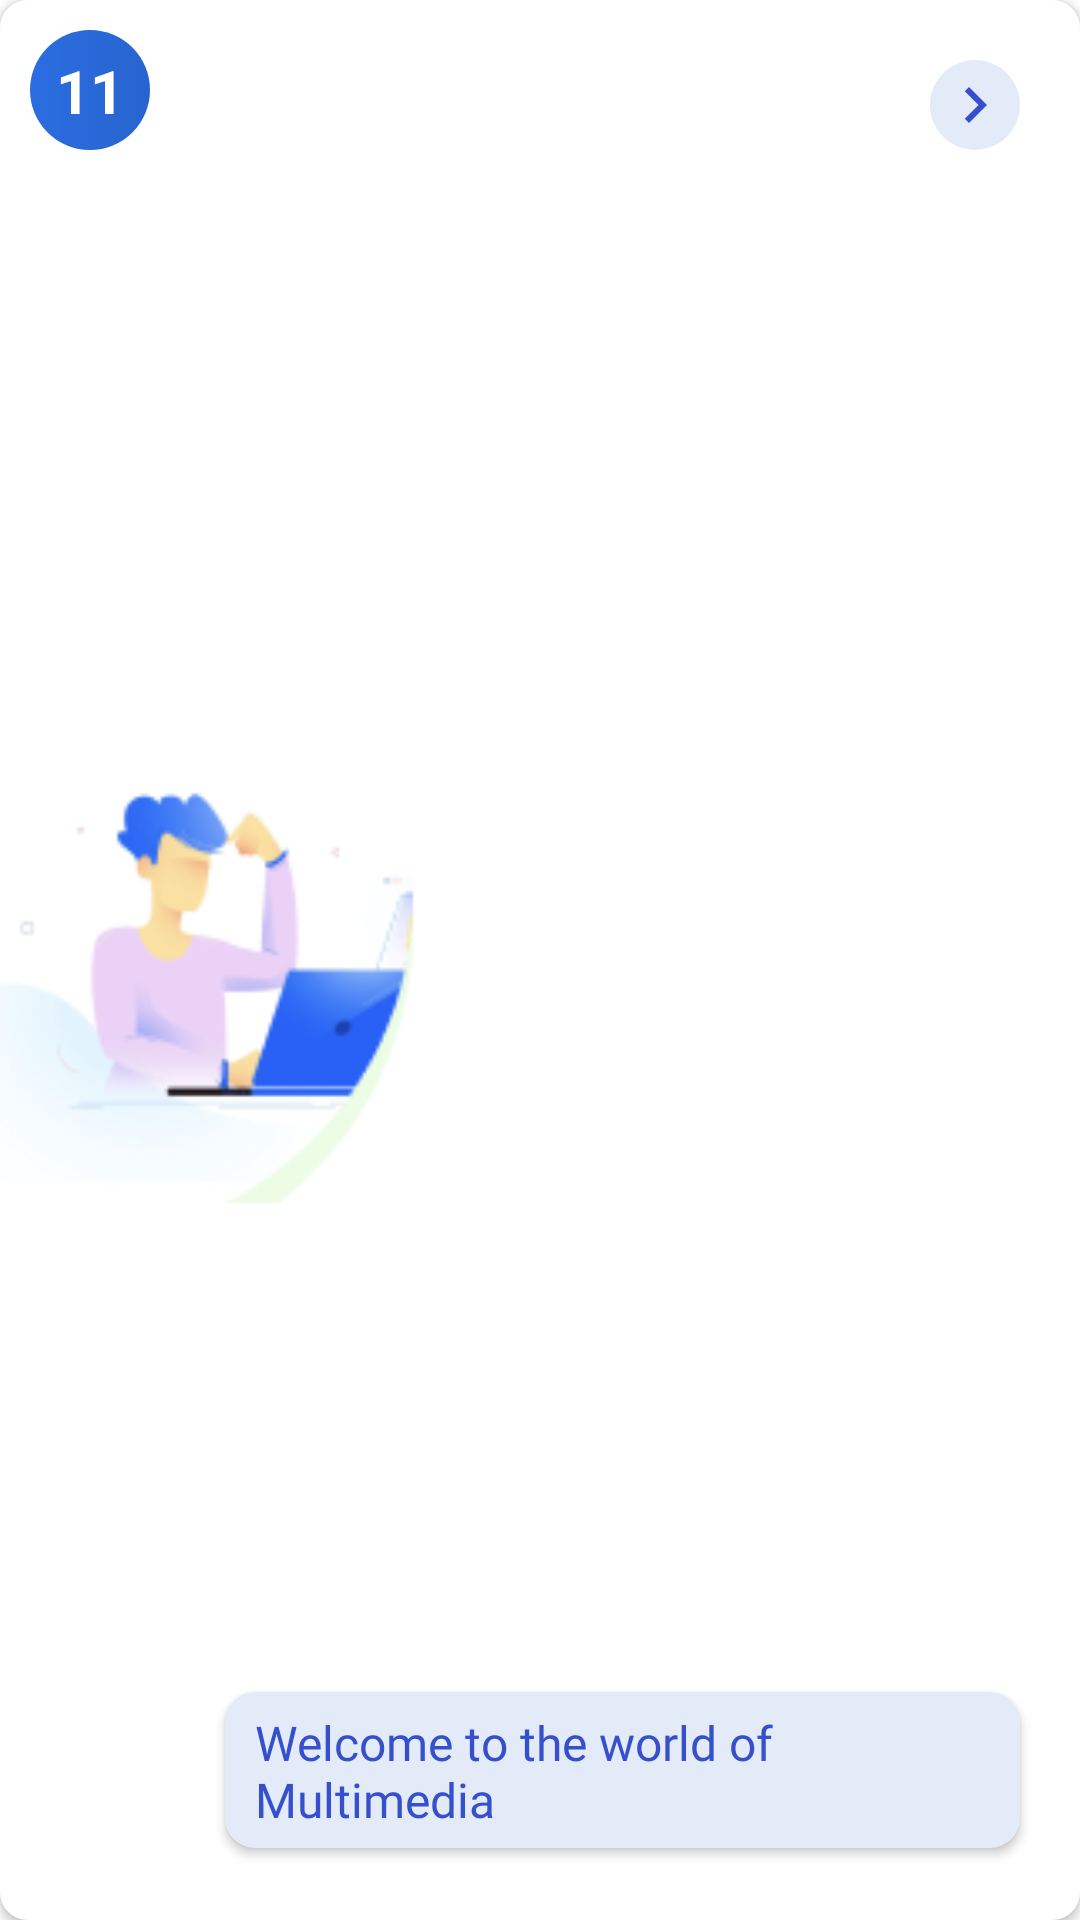

Locate icon controls on the screen. Image size 1080 x 1920, boxes as Rect(x1, y1, x2, y2).
number circle: Rect(30, 30, 150, 150)
